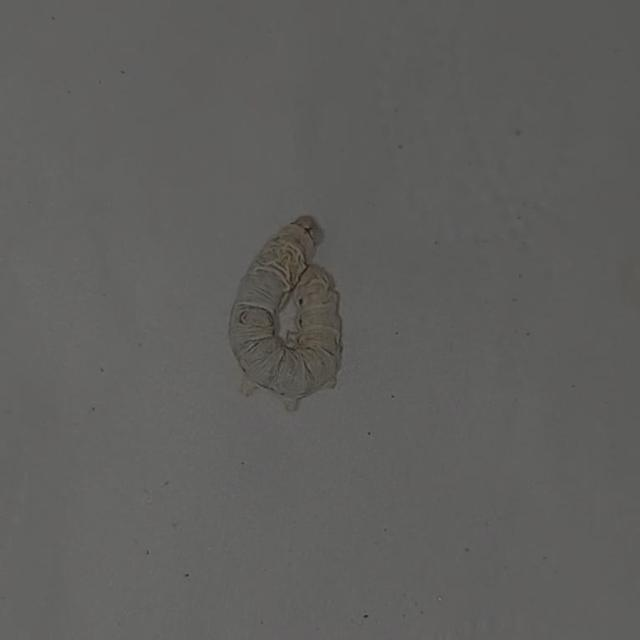Healthy: (212, 178, 355, 447)
